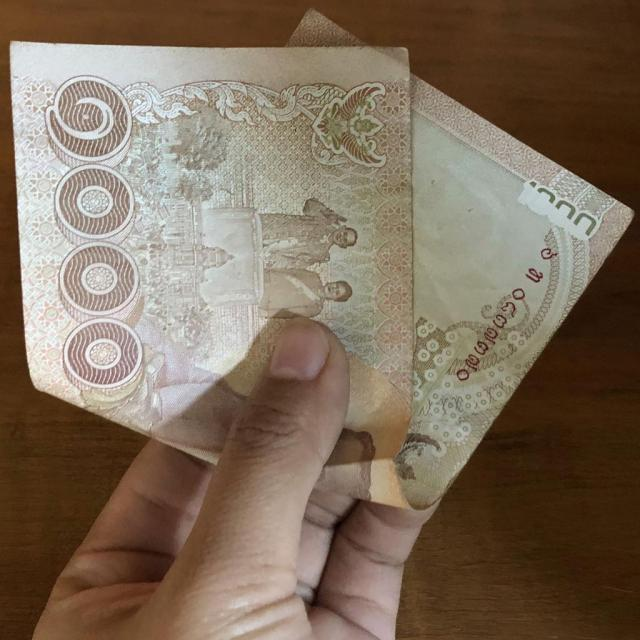THAI1000: (11, 43, 628, 508)
